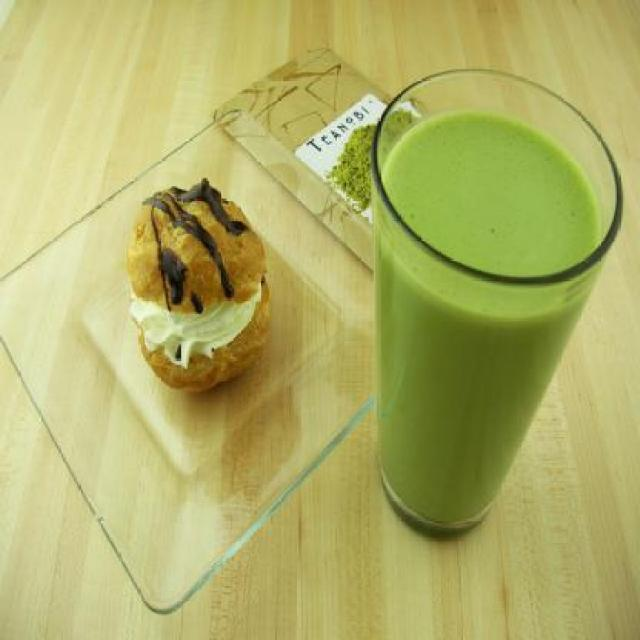Juice: (358, 89, 622, 534)
